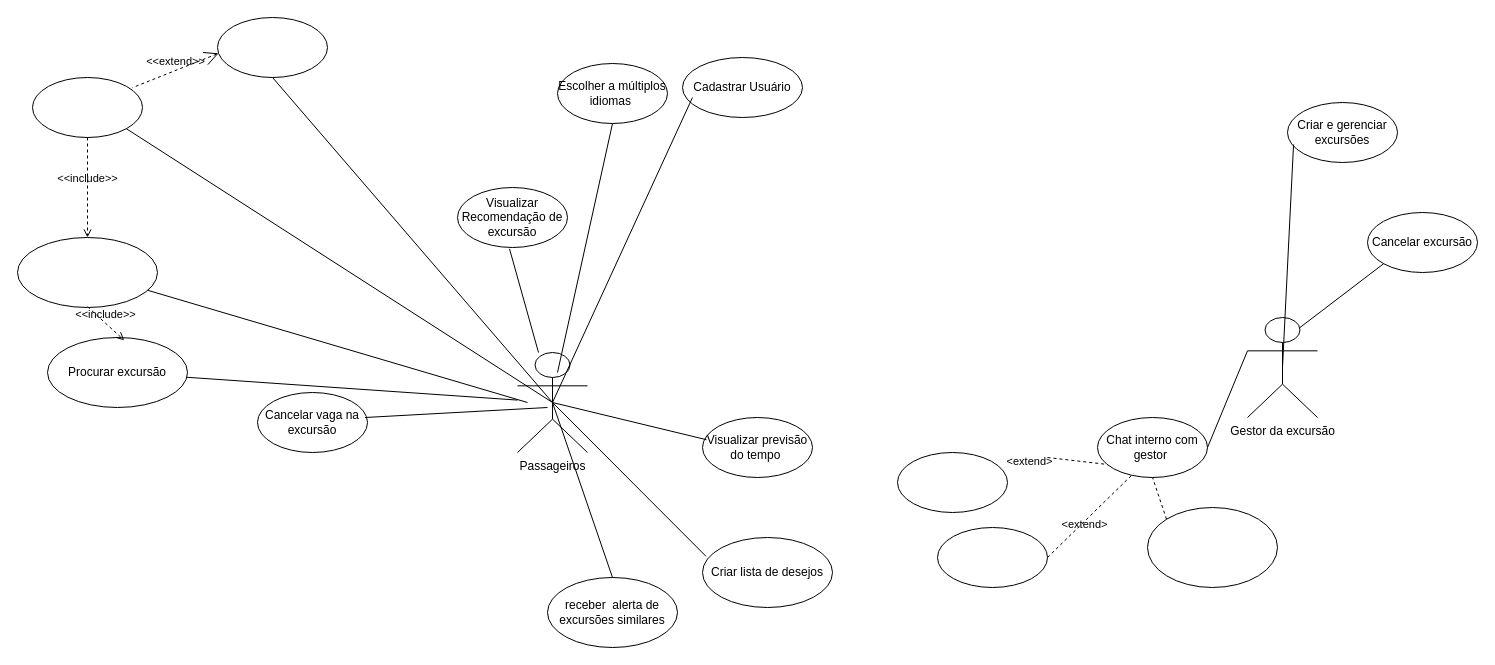
Image size: 1495x665. Some labels were removed from this diagram. Each missing label, with the box of its shape:
Categorias de excursões: (896, 452, 1008, 512)
Compartilhar excursões com amigos: (936, 526, 1048, 588)
Lista de desejos + alerta de excursões similares: (1146, 506, 1278, 588)
Realizar Pagameto: (216, 16, 328, 78)
Selecionar excursão: (16, 236, 158, 308)
Visualizar disponibilidade de vagas: (32, 76, 142, 138)
